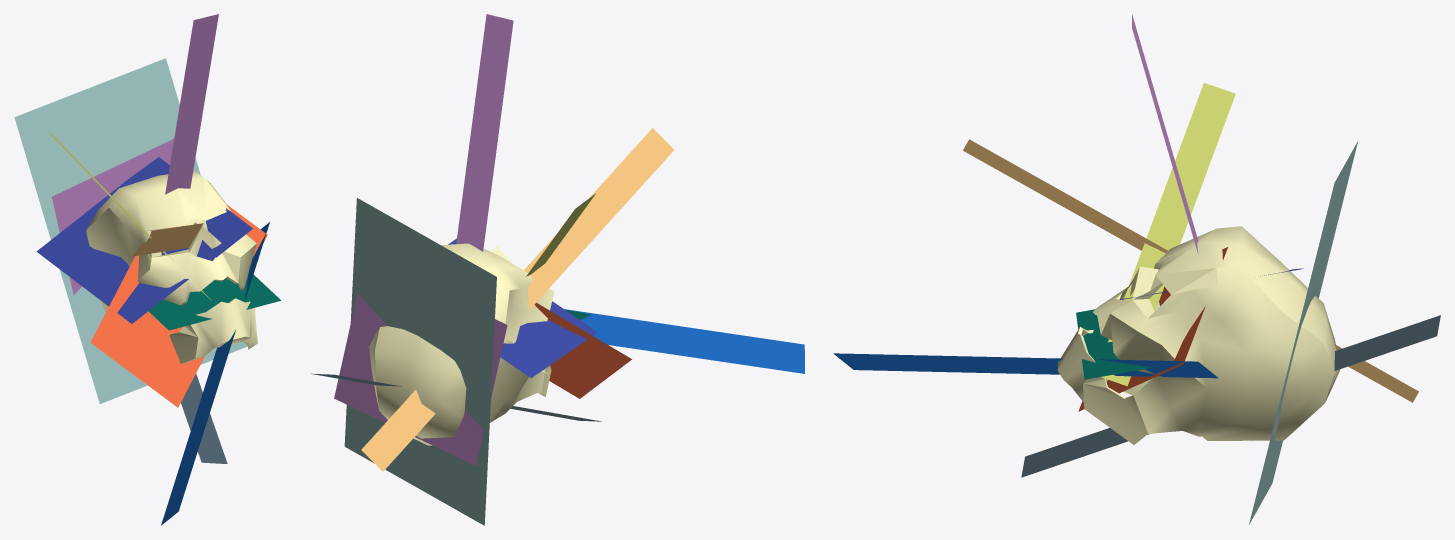
File: skull4.glb
The picture shows the model from 3 angles, left to right: view 1: azimuth 30°, elevation 25°; view 2: azimuth 150°, elevation 25°; view 3: azimuth 270°, elevation 25°; orthographic projection. The views are drawn at different scales.
Parts seen in each view (by area): view 1: Plane.021, skull4, Plane.062, Plane.077, Plane.001, Plane.015, Plane.071, Plane.038, Plane.010, Plane.047, Plane.028; view 2: Plane.021, skull4, Plane.047, Plane.001, Plane.038, Plane.015, Plane.077, Plane.062, Plane.028, Plane.010; view 3: skull4, Plane.028, Plane.038, Plane.010, Plane.047, Plane.021, Plane.071, Plane.001, Plane.077.
Boxes of the visible parts, bbox=[...] form: Plane.021: bbox=[14, 58, 247, 403]; skull4: bbox=[86, 170, 257, 363]; Plane.062: bbox=[36, 157, 252, 323]; Plane.077: bbox=[90, 204, 267, 407]; Plane.001: bbox=[165, 14, 218, 194]; Plane.015: bbox=[52, 139, 173, 294]; Plane.071: bbox=[148, 272, 280, 330]; Plane.038: bbox=[161, 222, 269, 525]; Plane.010: bbox=[181, 373, 227, 463]; Plane.047: bbox=[132, 223, 203, 256]; Plane.028: bbox=[47, 131, 211, 300]; Plane.021: bbox=[344, 198, 496, 525]; skull4: bbox=[369, 243, 554, 445]; Plane.047: bbox=[361, 128, 673, 471]; Plane.001: bbox=[456, 14, 513, 251]; Plane.038: bbox=[564, 309, 804, 373]; Plane.015: bbox=[334, 293, 507, 465]; Plane.077: bbox=[534, 302, 631, 398]; Plane.062: bbox=[448, 238, 597, 378]; Plane.028: bbox=[526, 193, 595, 276]; Plane.010: bbox=[311, 373, 601, 421]; skull4: bbox=[1057, 226, 1340, 444]; Plane.028: bbox=[1101, 83, 1235, 386]; Plane.038: bbox=[833, 353, 1218, 378]; Plane.010: bbox=[1021, 315, 1440, 477]; Plane.047: bbox=[963, 139, 1418, 402]; Plane.021: bbox=[1249, 141, 1357, 524]; Plane.071: bbox=[1076, 309, 1152, 379]; Plane.001: bbox=[1132, 14, 1252, 441]; Plane.077: bbox=[1078, 247, 1227, 411].
Size of what is drawn, in the model's own units: 10.48 by 16.15 by 18.23.
1 material, 1 textured.
